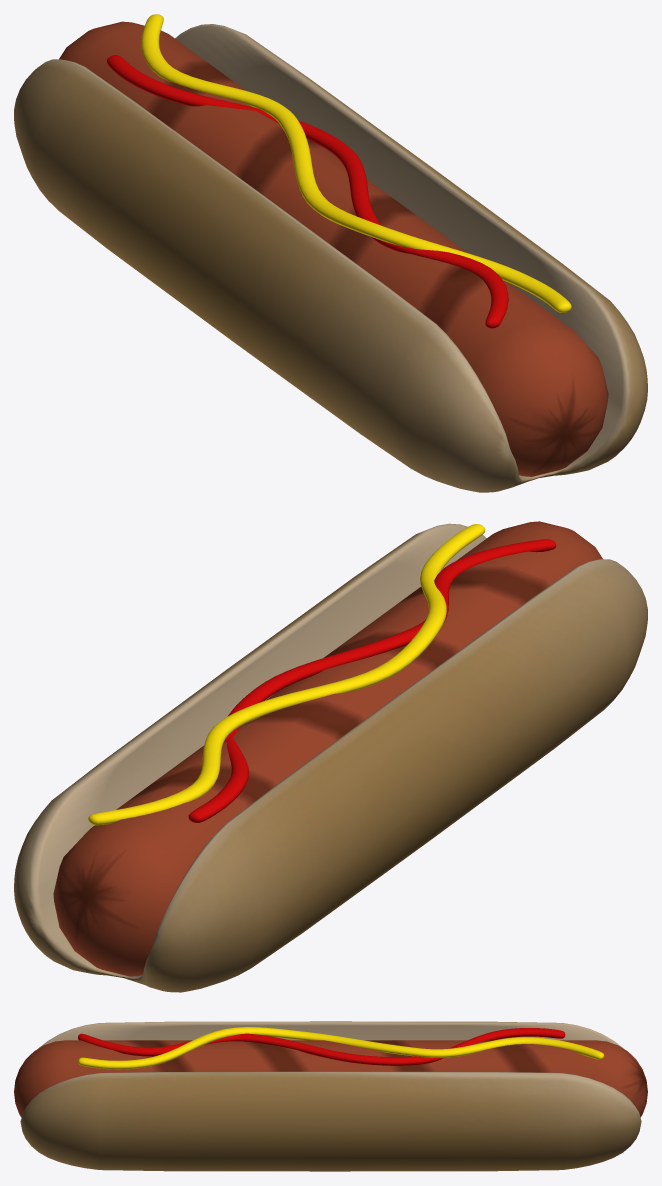
The model's file is HotDog.dae.
3 renders of one model, top to bottom at view 1: azimuth 30°, elevation 25°; view 2: azimuth 150°, elevation 25°; view 3: azimuth 270°, elevation 25°, orthographic. The views are drawn at different scales.
Visible parts, largest first — view 1: HotDogBun, HotDog, Mustard, Ketchup; view 2: HotDogBun, HotDog, Mustard, Ketchup; view 3: HotDogBun, HotDog, Mustard, Ketchup.
Boxes of the visible parts, x1,y1,x2,y2 form: HotDogBun: [14, 24, 647, 492]; HotDog: [59, 21, 608, 476]; Mustard: [141, 14, 571, 312]; Ketchup: [106, 55, 508, 328]; HotDogBun: [14, 523, 647, 992]; HotDog: [53, 521, 602, 976]; Mustard: [88, 524, 485, 825]; Ketchup: [188, 539, 556, 822]; HotDogBun: [20, 1021, 641, 1171]; HotDog: [14, 1040, 647, 1117]; Mustard: [78, 1027, 604, 1069]; Ketchup: [78, 1028, 565, 1065].
Bounding box in the file's own units: 0.5866 × 2 × 0.4122.
4 materials, 4 textured.
